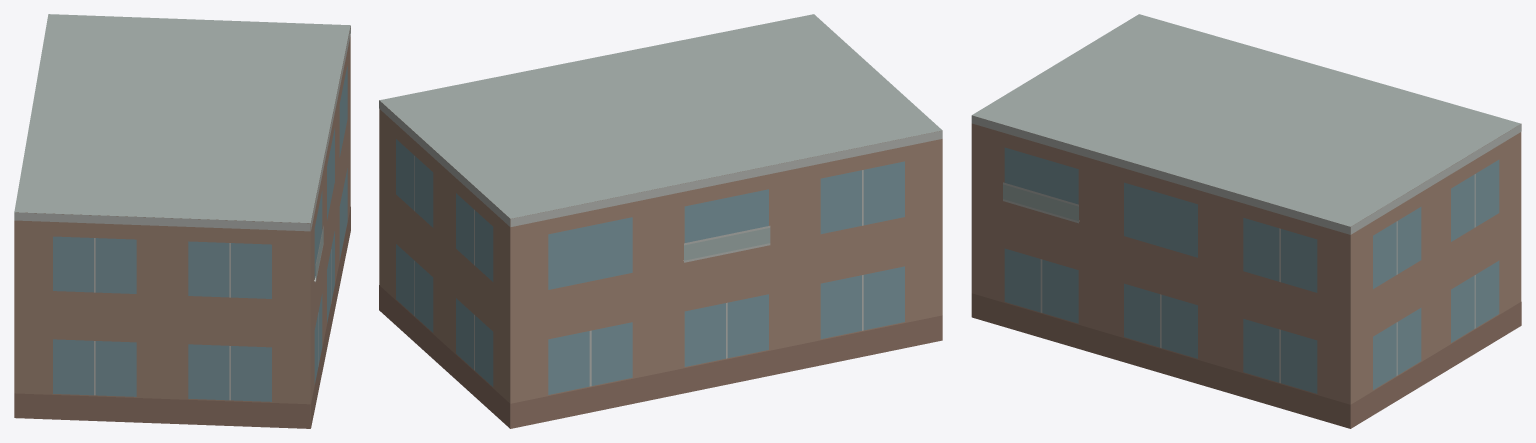
File: survey-upis-32893182.glb
3 views of the same model, side by side, from view 1: azimuth 30°, elevation 25°; view 2: azimuth 150°, elevation 25°; view 3: azimuth 270°, elevation 25° (orthographic). The views are drawn at different scales.
Parts seen in each view (by area): view 1: survey-upis-32893182.tmp; view 2: survey-upis-32893182.tmp; view 3: survey-upis-32893182.tmp.
Boxes of the visible parts, box(x1,y1,x2,y2) form: survey-upis-32893182.tmp: box(14, 14, 350, 428); survey-upis-32893182.tmp: box(379, 14, 942, 428); survey-upis-32893182.tmp: box(971, 14, 1521, 428).
Size of the model in its own units: 13.79 by 6.1 by 15.05.
